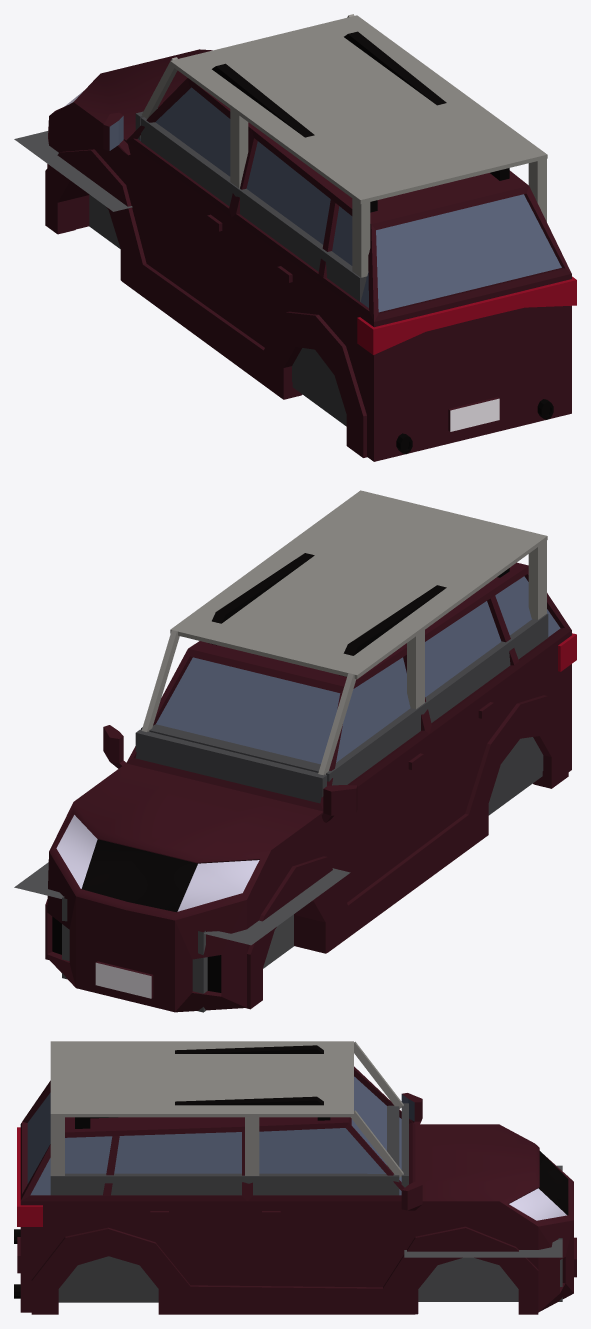
The model's file is suv.glb.
The picture shows the model from 3 angles, top to bottom: view 1: azimuth 30°, elevation 25°; view 2: azimuth 150°, elevation 25°; view 3: azimuth 270°, elevation 25°; orthographic projection. The views are drawn at different scales.
Visible parts, largest first — view 1: body, interior, hood, bay; view 2: body, interior, hood, bay; view 3: body, interior, hood, bay.
Boxes of the visible parts, left/top/right/bottom form: body: left=45, top=31, right=576, bottom=461; interior: left=135, top=14, right=547, bottom=426; hood: left=50, top=49, right=212, bottom=185; bay: left=14, top=131, right=132, bottom=248; body: left=45, top=553, right=576, bottom=1012; interior: left=135, top=490, right=548, bottom=815; hood: left=49, top=725, right=357, bottom=920; bay: left=14, top=862, right=350, bottom=1012; body: left=14, top=1045, right=576, bottom=1314; interior: left=50, top=1041, right=408, bottom=1302; hood: left=402, top=1093, right=573, bottom=1247; bay: left=404, top=1165, right=562, bottom=1301.
Size of the model in its own units: 1.94 by 1.86 by 4.7.
